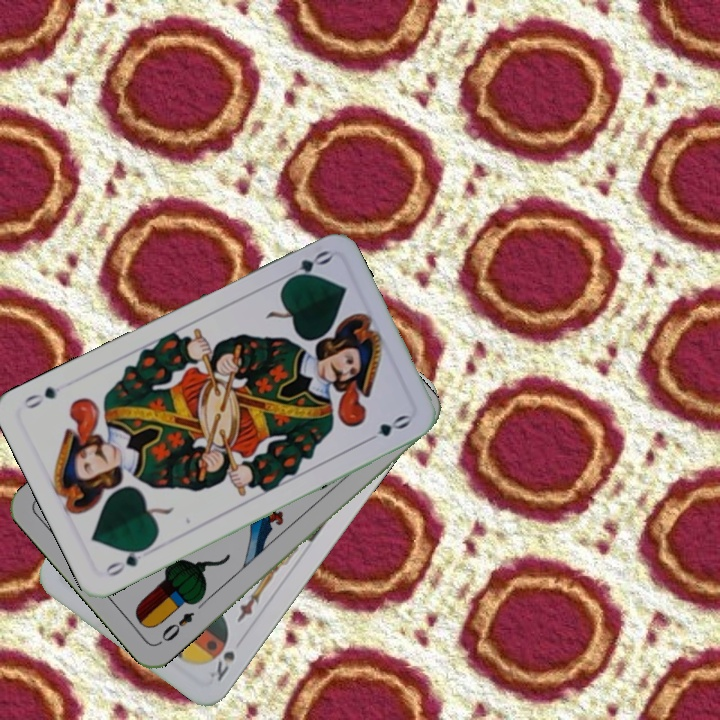EO: (155, 607, 197, 647)
GO: (278, 246, 334, 287), (101, 541, 153, 579)
SK: (208, 635, 238, 684)
